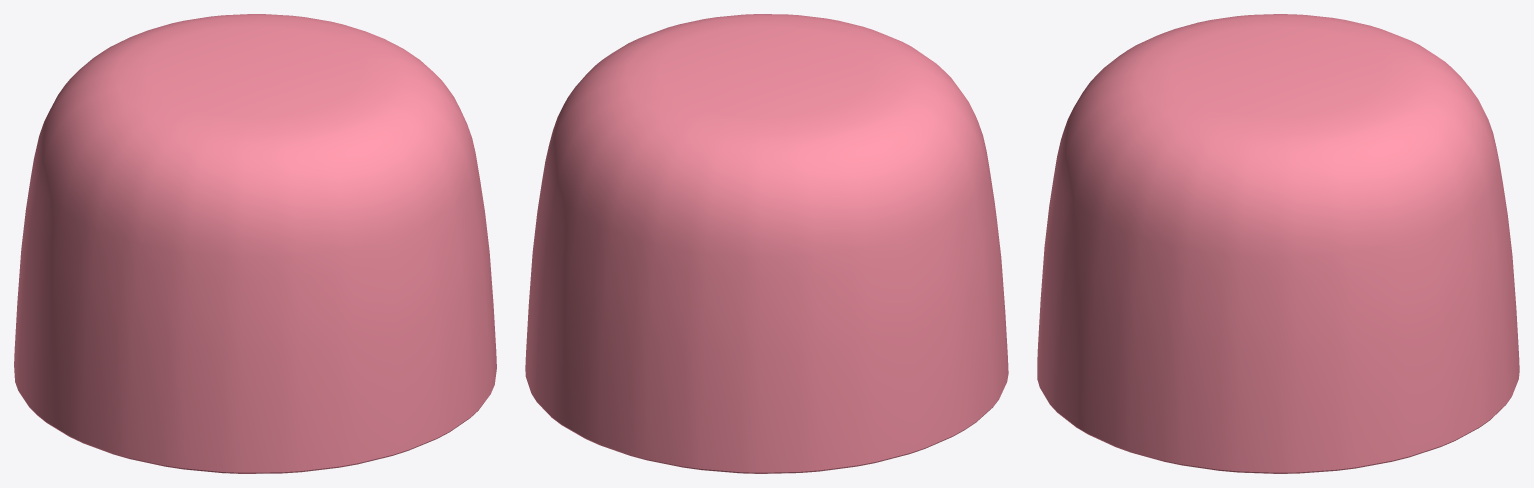
The model's file is plafonnier_style1.fbx.
3 views of the same model, side by side, from view 1: azimuth 30°, elevation 25°; view 2: azimuth 150°, elevation 25°; view 3: azimuth 270°, elevation 25° (orthographic).
Parts seen in each view (by area): view 1: Cylinder002; view 2: Cylinder002; view 3: Cylinder002.
Boxes of the visible parts, bbox=[...] form: Cylinder002: bbox=[14, 14, 496, 473]; Cylinder002: bbox=[525, 14, 1008, 473]; Cylinder002: bbox=[1037, 14, 1519, 473].
Size of the model in its own units: 40.03 by 27.51 by 39.97.
